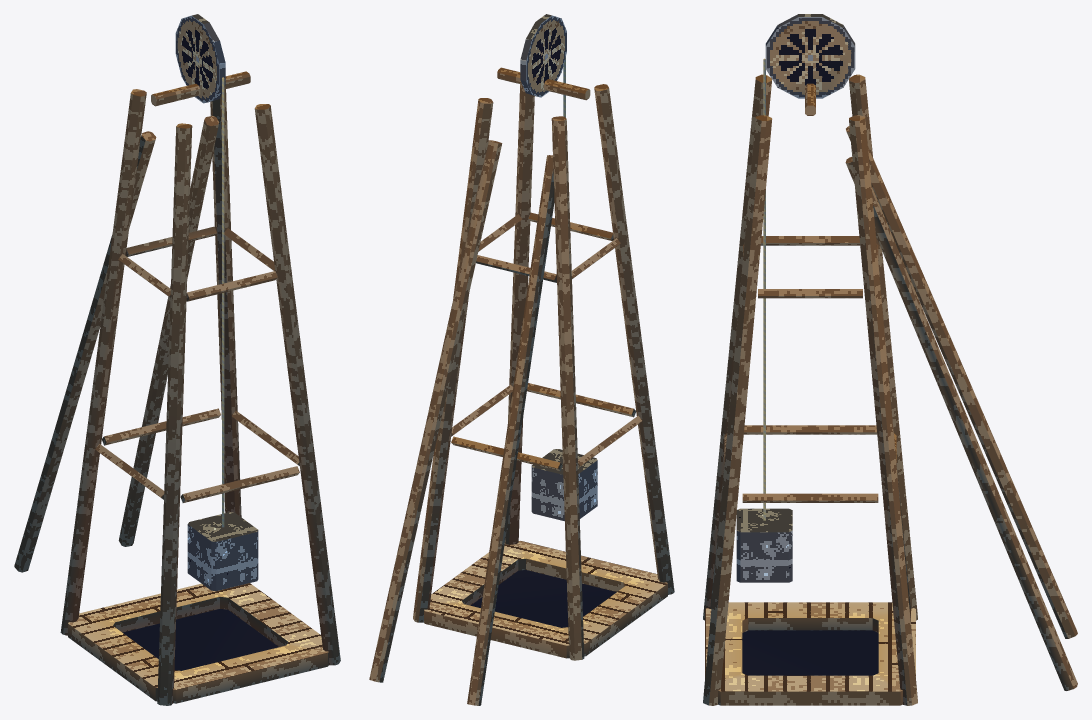
Rendered from wmine.headframe__tall.glb.
3 renders of one model, left to right at view 1: azimuth 30°, elevation 25°; view 2: azimuth 150°, elevation 25°; view 3: azimuth 270°, elevation 25°, orthographic. The views are drawn at different scales.
Visible parts, largest first — view 1: kit_legs, kit_collar, kit_backs, kit_girts, kit_card_shaft, kit_cage, kit_sheave, kit_rope, kit_sheave_axle; view 2: kit_legs, kit_backs, kit_collar, kit_girts, kit_card_shaft, kit_cage, kit_sheave, kit_sheave_axle; view 3: kit_legs, kit_backs, kit_collar, kit_card_shaft, kit_sheave, kit_girts, kit_cage, kit_rope.
Part boxes in pixels (x1,y1,x2,y2): kit_legs: (60, 89, 340, 705); kit_collar: (68, 583, 328, 703); kit_backs: (14, 116, 219, 572); kit_girts: (95, 226, 299, 502); kit_card_shaft: (123, 609, 278, 670); kit_cage: (187, 512, 258, 591); kit_sheave: (175, 14, 225, 103); kit_rope: (222, 77, 224, 527); kit_sheave_axle: (151, 71, 250, 106); kit_legs: (413, 84, 674, 660); kit_backs: (369, 140, 554, 705); kit_collar: (424, 541, 667, 658); kit_girts: (451, 212, 642, 470); kit_card_shaft: (471, 570, 616, 627); kit_cage: (531, 449, 597, 521); kit_sheave: (520, 14, 566, 97); kit_sheave_axle: (497, 67, 590, 100); kit_legs: (703, 74, 917, 705); kit_backs: (845, 126, 1077, 690); kit_collar: (705, 602, 915, 705); kit_card_shaft: (742, 630, 878, 675); kit_sheave: (765, 14, 855, 98); kit_girts: (724, 236, 896, 502); kit_cage: (736, 508, 792, 582); kit_rope: (763, 58, 765, 520).
Size of the model in its own units: 3.46 by 11.51 by 6.04.
6 materials, 6 textured.
